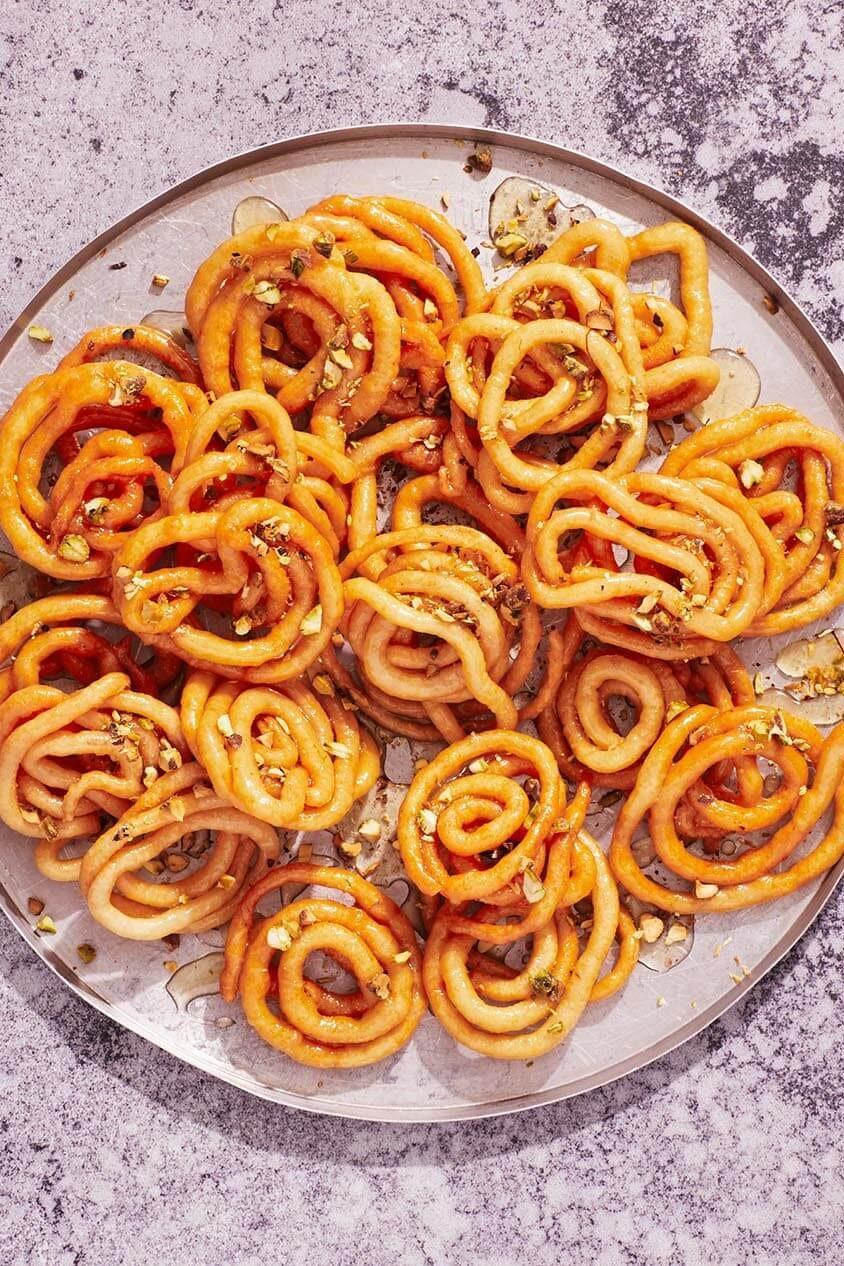jalebi: (3, 152, 844, 1070)
